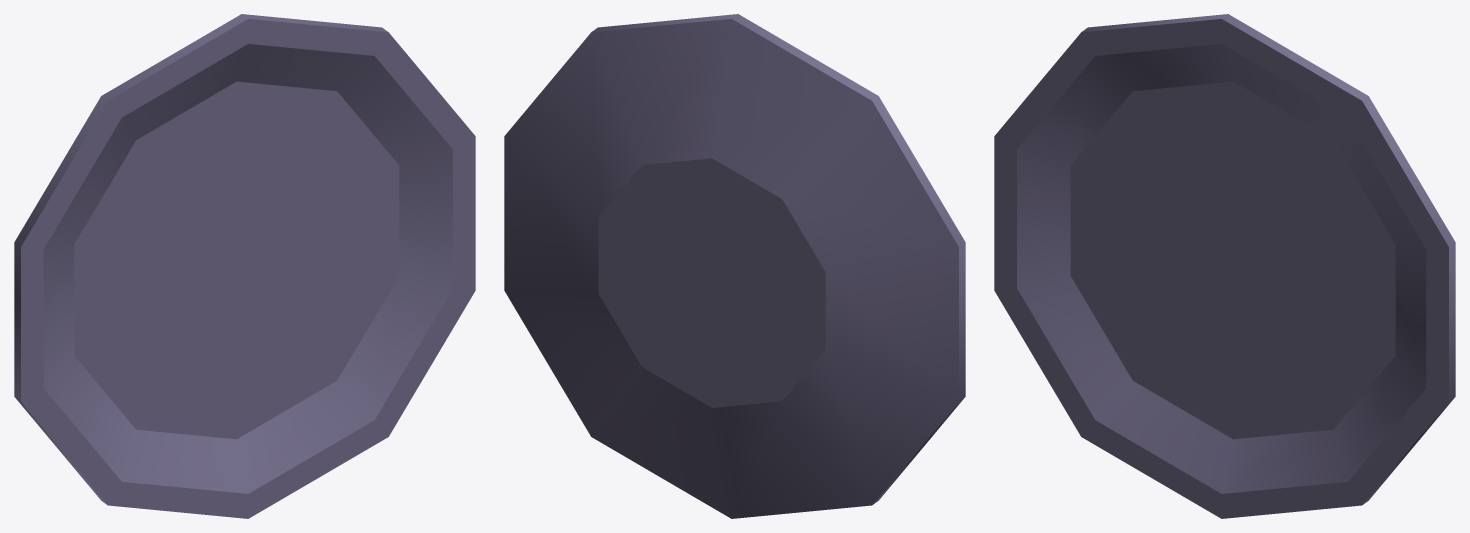
File: SM_Plate.fbx
The picture shows the model from 3 angles, left to right: view 1: azimuth 30°, elevation 25°; view 2: azimuth 150°, elevation 25°; view 3: azimuth 330°, elevation 25°; orthographic projection.
Visible parts, largest first — view 1: SM_Plate; view 2: SM_Plate; view 3: SM_Plate.
Boxes of the visible parts, box(x1,y1,x2,y2) form: SM_Plate: box(14, 14, 475, 518); SM_Plate: box(504, 14, 965, 518); SM_Plate: box(994, 14, 1455, 518).
Size of the model in its own units: 47.44 by 49.88 by 4.72.
